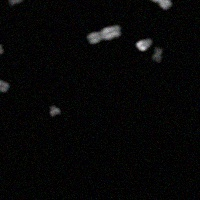chromosome: (85, 23, 120, 46), (136, 0, 171, 9), (135, 36, 152, 51), (0, 66, 9, 93), (151, 46, 165, 62), (47, 105, 60, 118), (10, 0, 24, 6), (0, 42, 4, 57)
